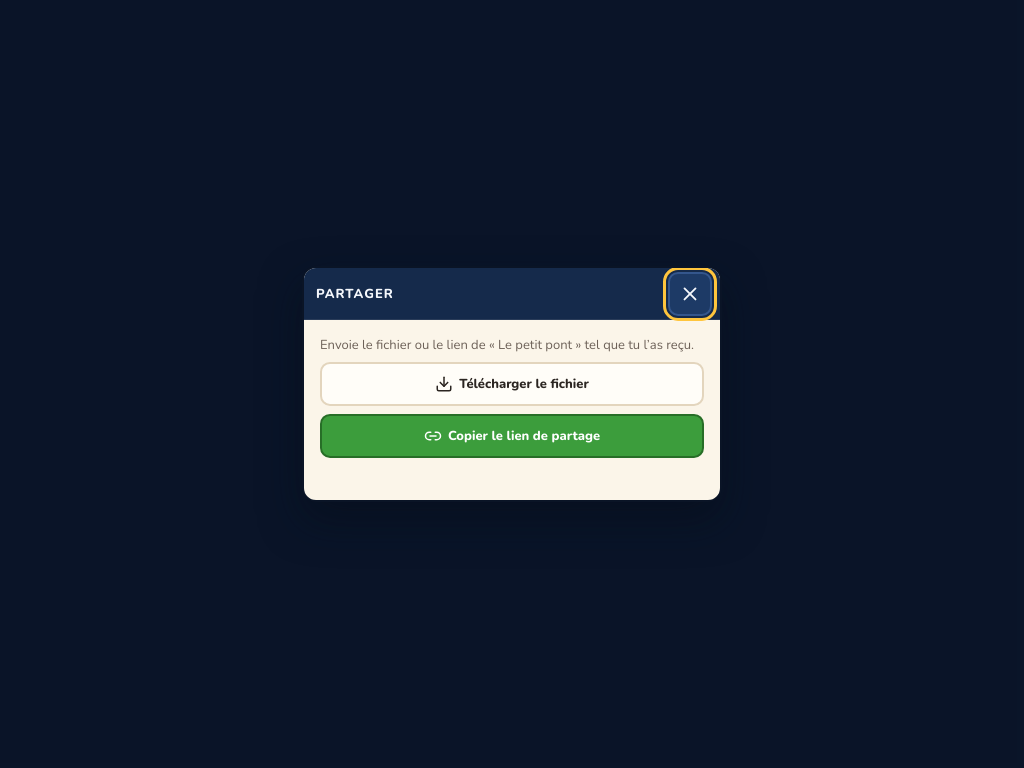
it: partager un niveau reçu (M9, ADR 0015 § Page « Mes niveaux ») › copie un lien `/shared` qui redonne le même document
Click the button "Copier le lien de partage" at (512, 436), box left=320, top=414, right=704, bottom=458
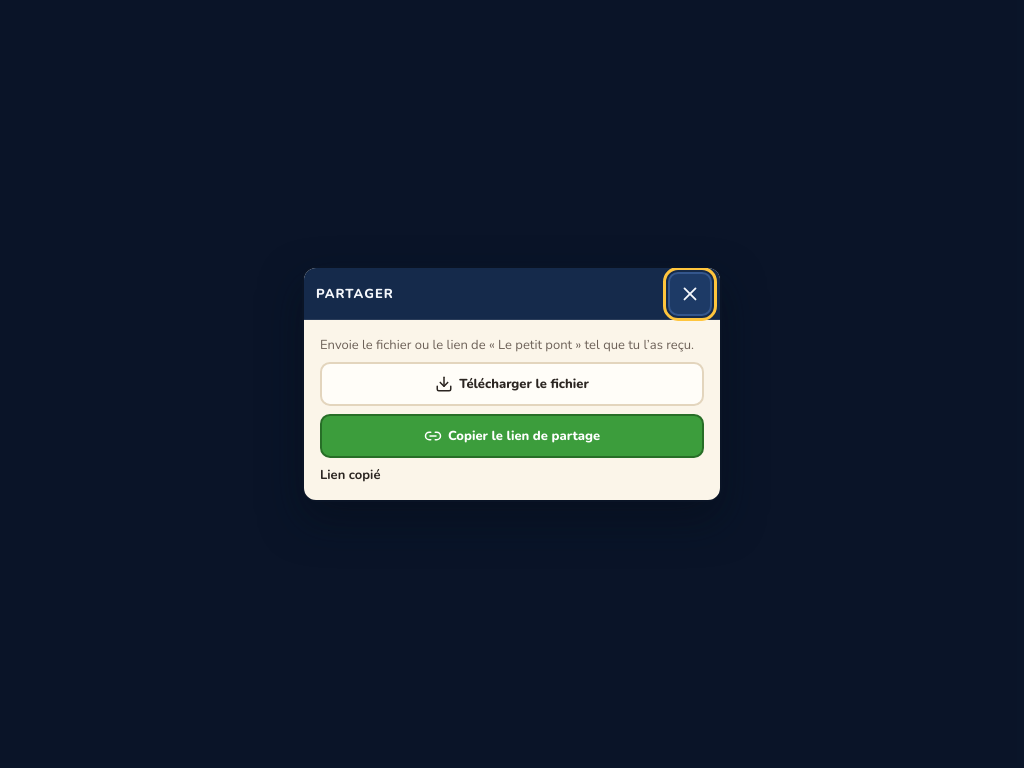
Expected: the text "Lien copié" is shown, left=320, top=466, right=380, bottom=484
